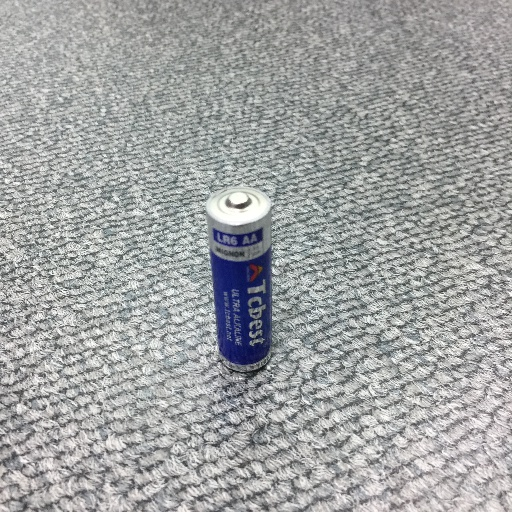Battery_0: (201, 175, 288, 395)
